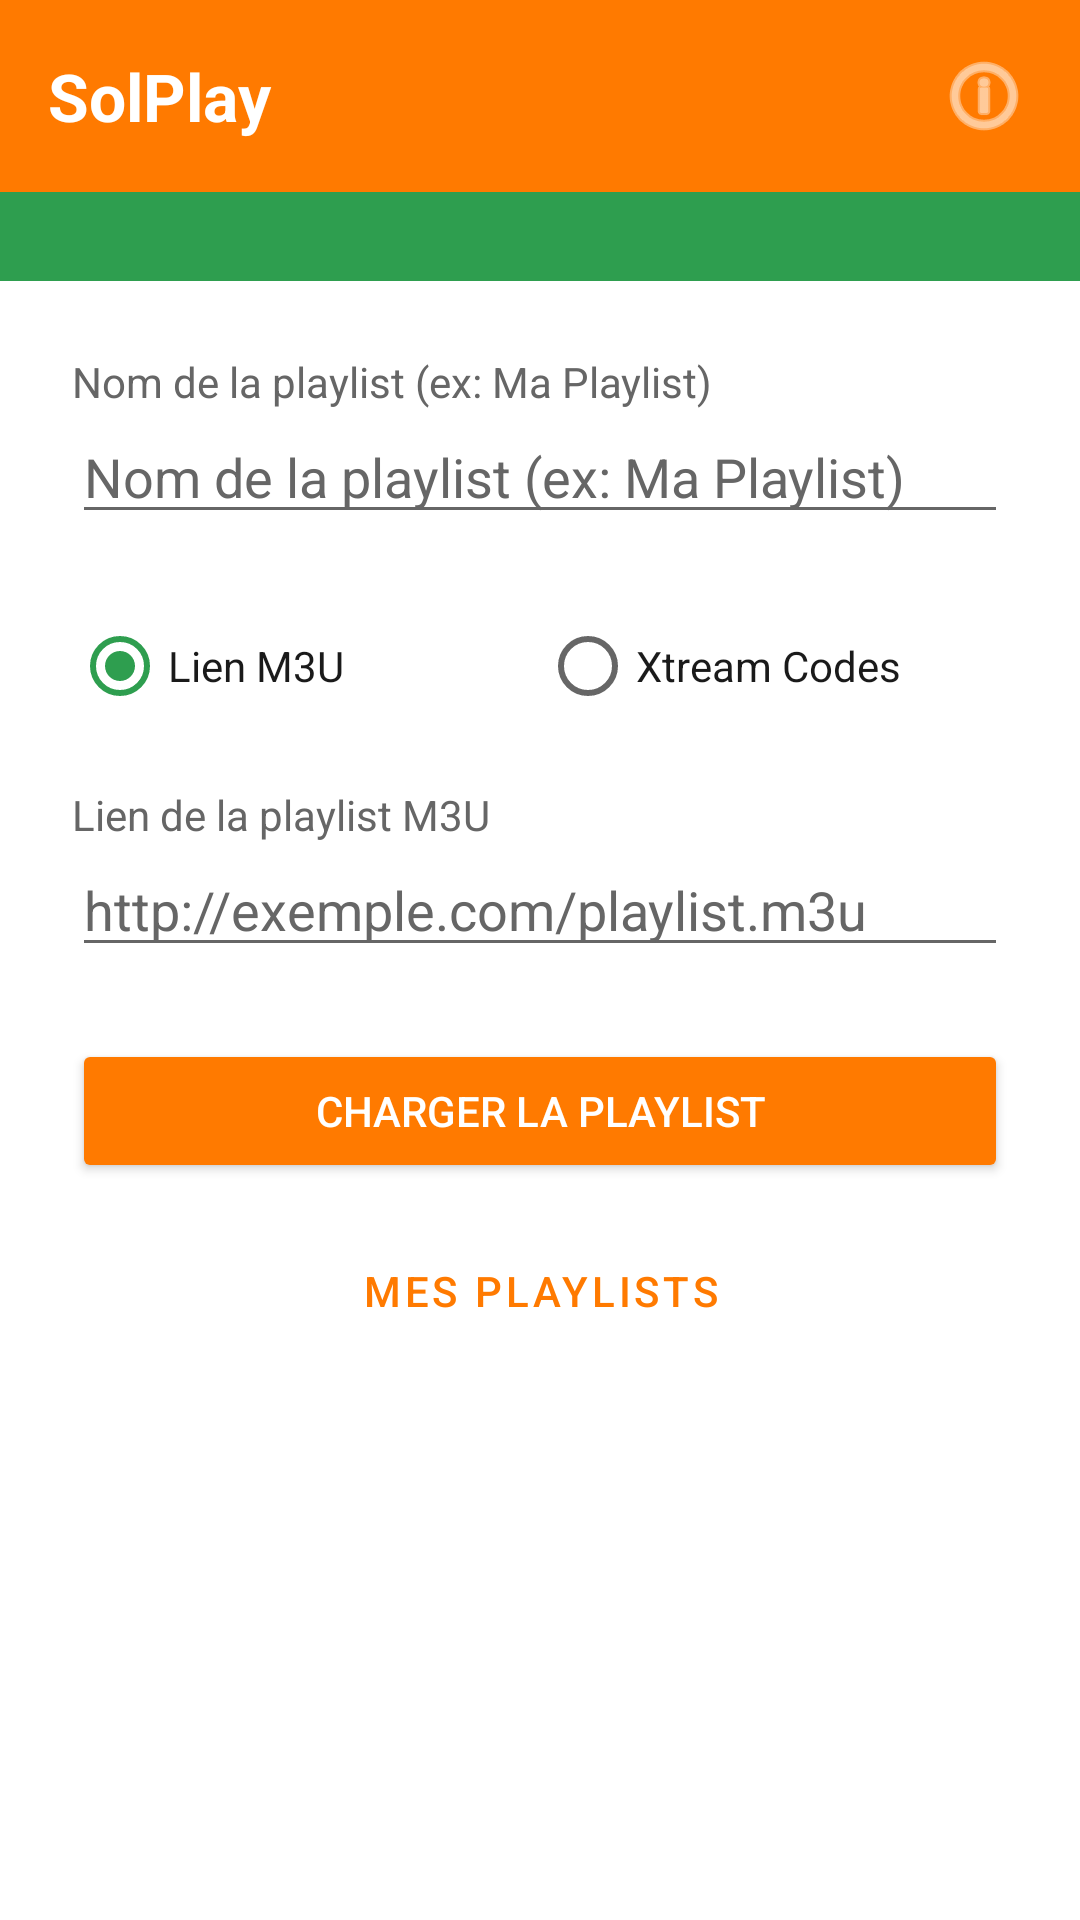

Icons on this 1080×1920 Android screen, each with the point to tap as (x,y):
info details: (984,96)
